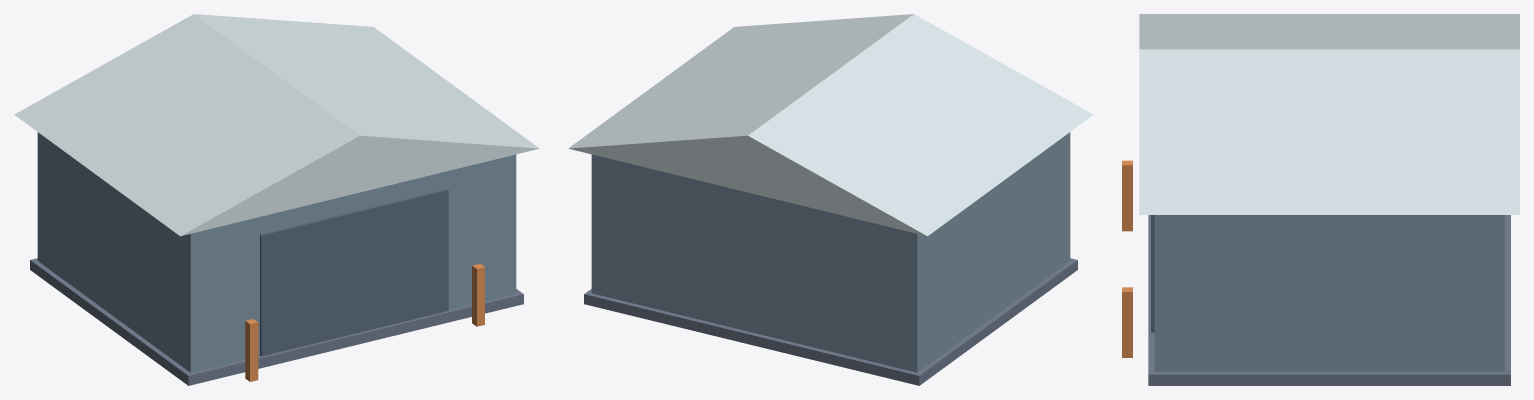
The model's file is plow-depot.glb.
3 views of the same model, side by side, from view 1: azimuth 30°, elevation 25°; view 2: azimuth 150°, elevation 25°; view 3: azimuth 270°, elevation 25° (orthographic). The views are drawn at different scales.
Visible parts, largest first — view 1: plow-depot; view 2: plow-depot; view 3: plow-depot.
Boxes of the visible parts, x1,y1,x2,y2 form: plow-depot: [14, 14, 539, 385]; plow-depot: [568, 14, 1093, 385]; plow-depot: [1122, 14, 1519, 385].
Bounding box in the file's own units: 8.28 × 4.67 × 6.93.
